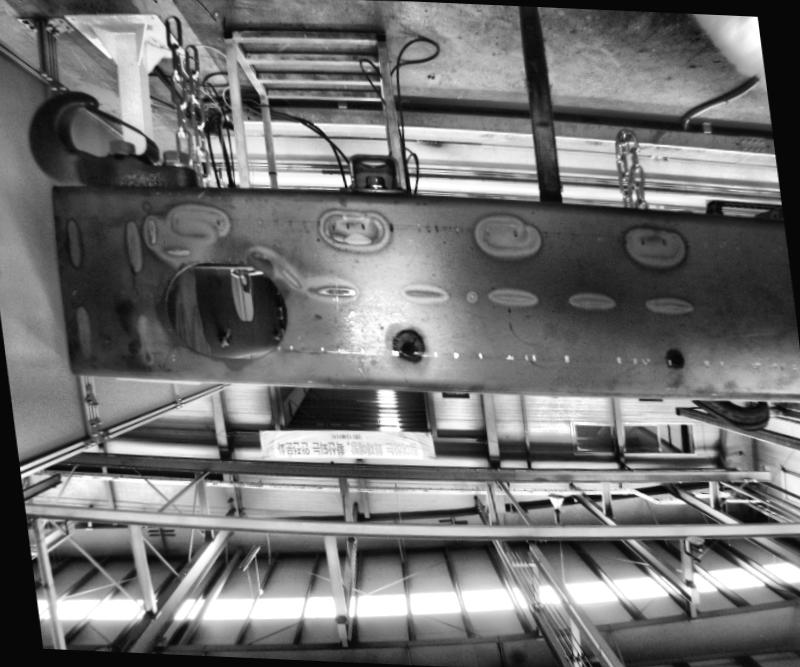bolt: (359, 171, 386, 189)
bracket: (322, 140, 418, 193)
hole: (146, 256, 292, 362), (395, 337, 415, 356), (666, 348, 682, 366)
